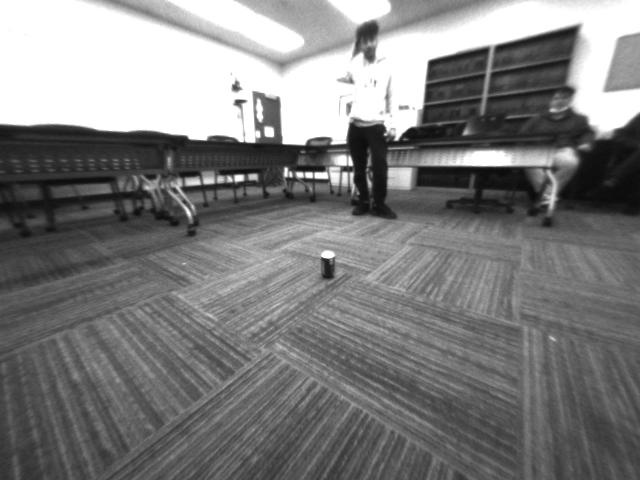can: (316, 247, 342, 284)
